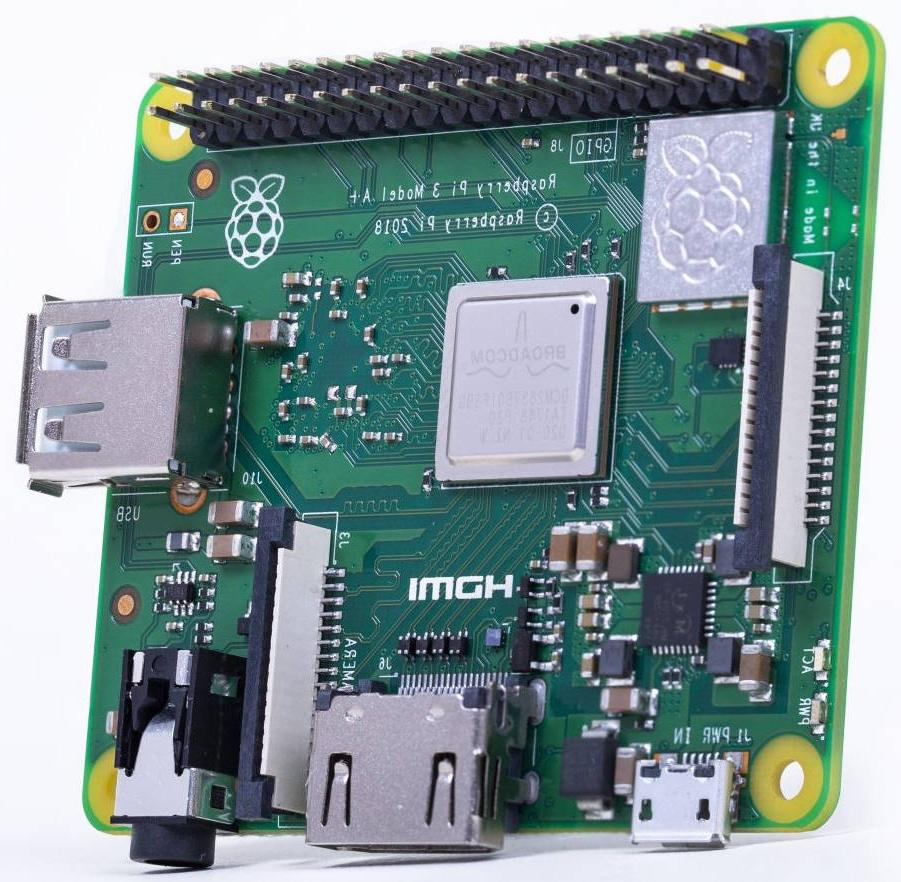audiojack: (112, 649, 243, 875)
bchi: (430, 281, 613, 487)
gpio: (177, 25, 794, 149)
